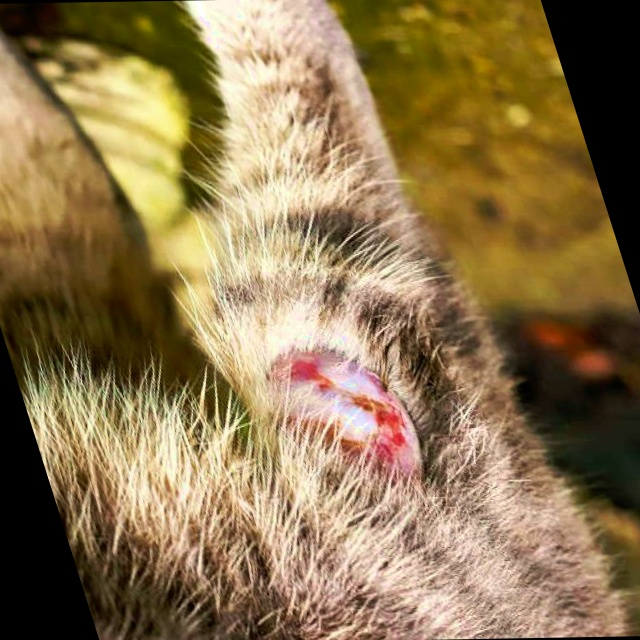lump_and_bump: (261, 349, 440, 497)
